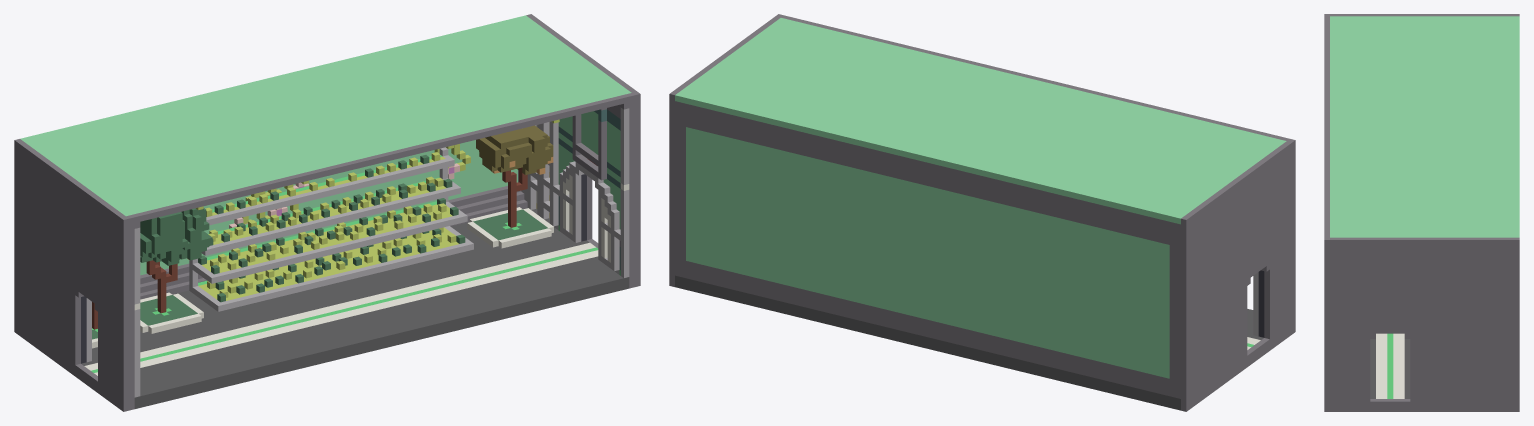
Rendered from GreenHouse Module.obj.
3 renders of one model, left to right at view 1: azimuth 30°, elevation 25°; view 2: azimuth 150°, elevation 25°; view 3: azimuth 270°, elevation 25°, orthographic. The views are drawn at different scales.
Size of the model in its own units: 9.3 by 3.3 by 3.4.
Materials: 1 (1 with a texture image).
